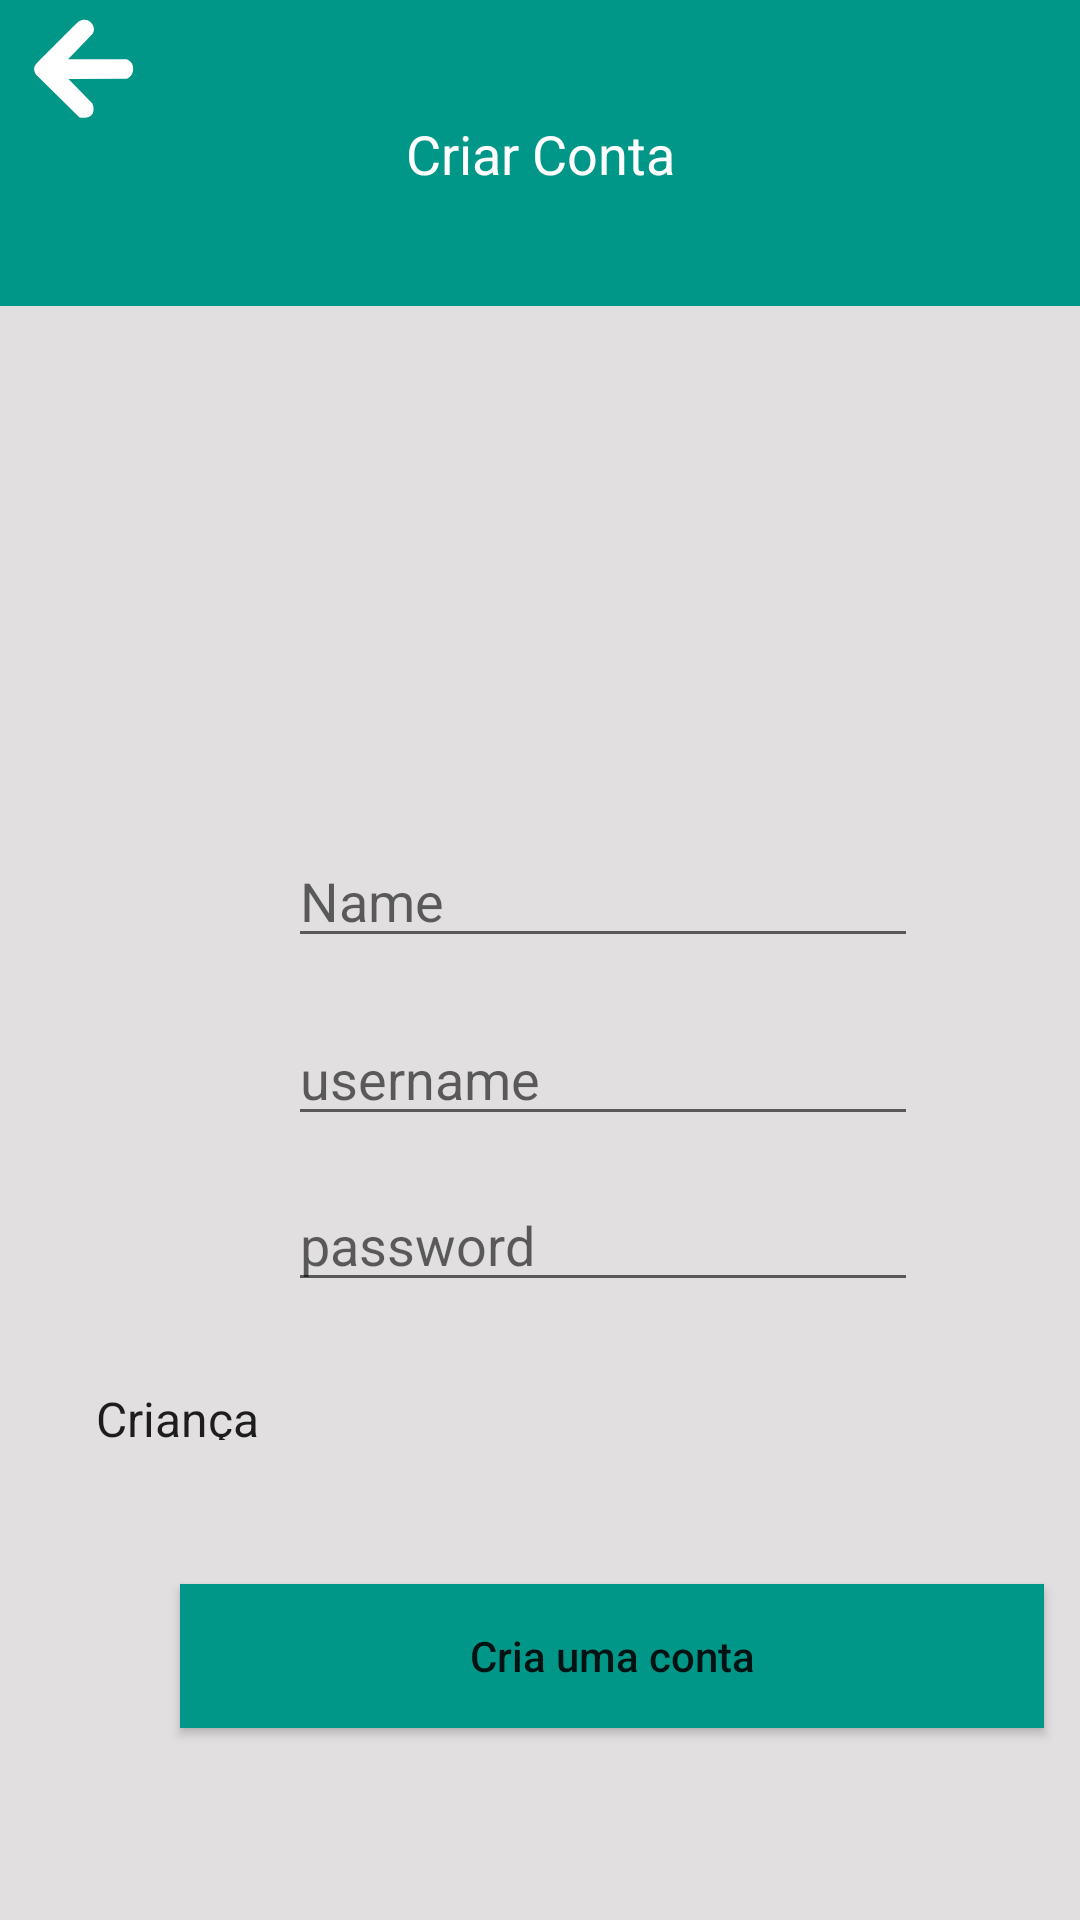

Point at icon controls on the screen. Image size 1080*1920, points as (x,y).
seta: (84,68)
